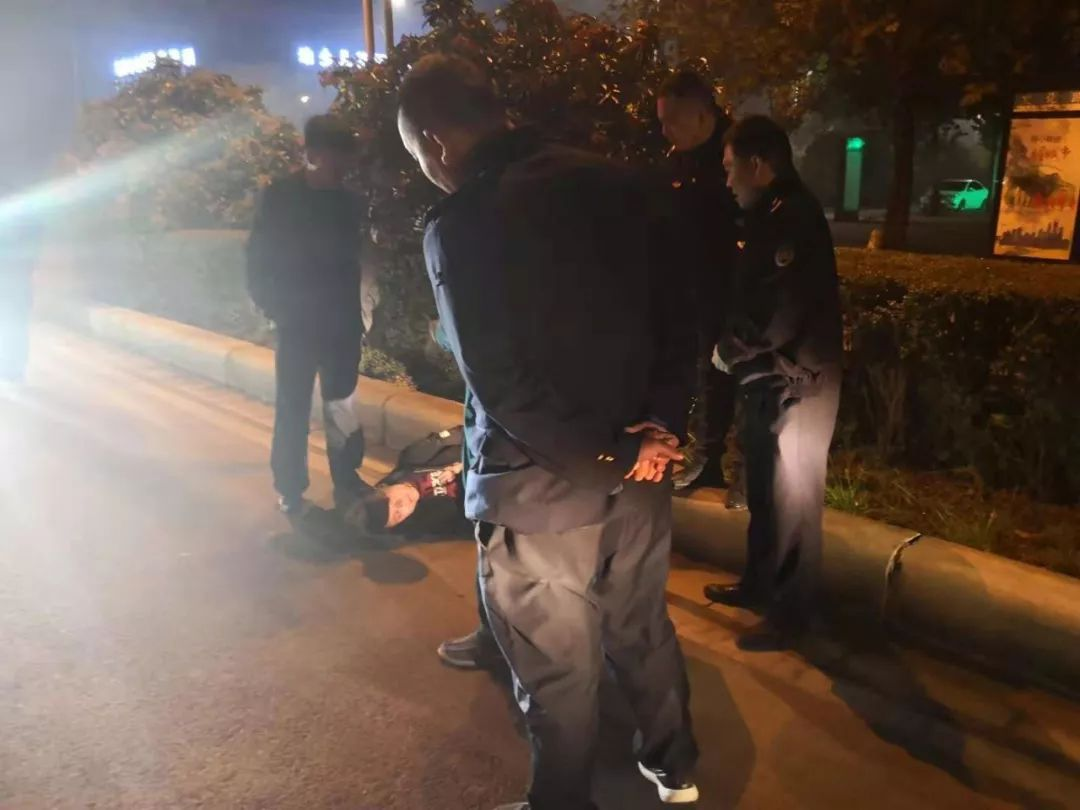fall: (341, 300, 764, 677)
